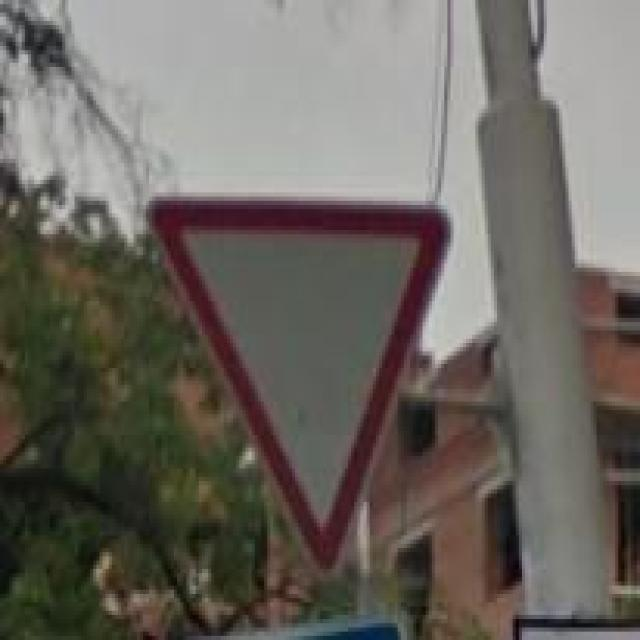give_way: (146, 196, 451, 582)
